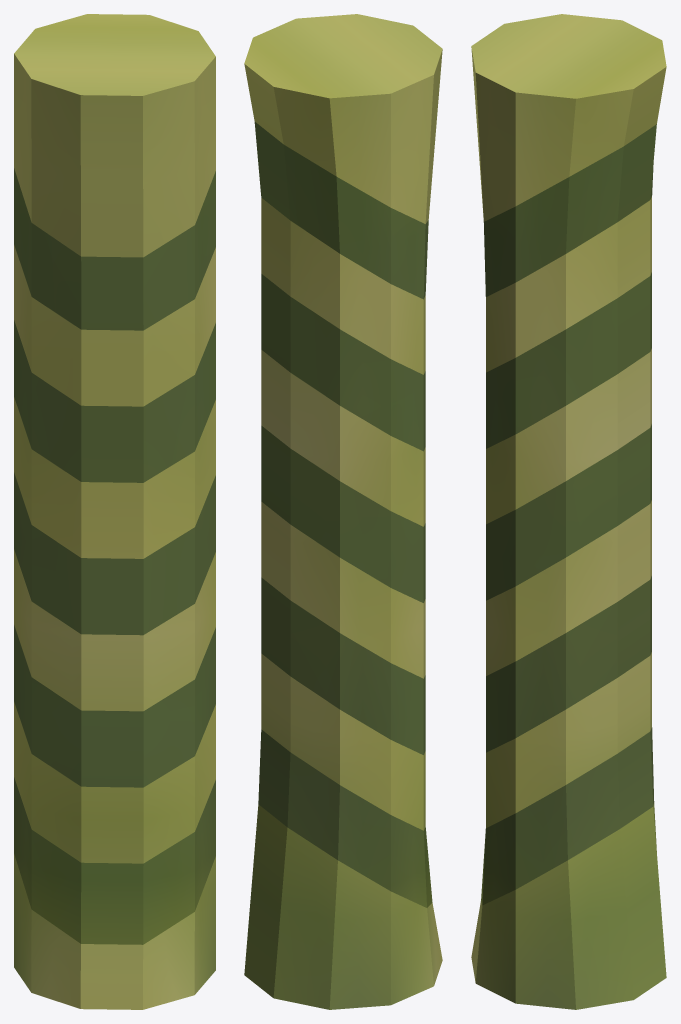
The model's file is OBS0110254.fbx.
The picture shows the model from 3 angles, left to right: view 1: azimuth 30°, elevation 25°; view 2: azimuth 150°, elevation 25°; view 3: azimuth 270°, elevation 25°; orthographic projection.
Visible parts, largest first — view 1: smOBS0110254; view 2: smOBS0110254; view 3: smOBS0110254.
Boxes of the visible parts, x1=… form: smOBS0110254: x1=14, y1=14, x2=215, y2=1009; smOBS0110254: x1=244, y1=14, x2=442, y2=1009; smOBS0110254: x1=471, y1=14, x2=666, y2=1009.
Bounding box in the file's own units: 40.6 × 203 × 39.5.
